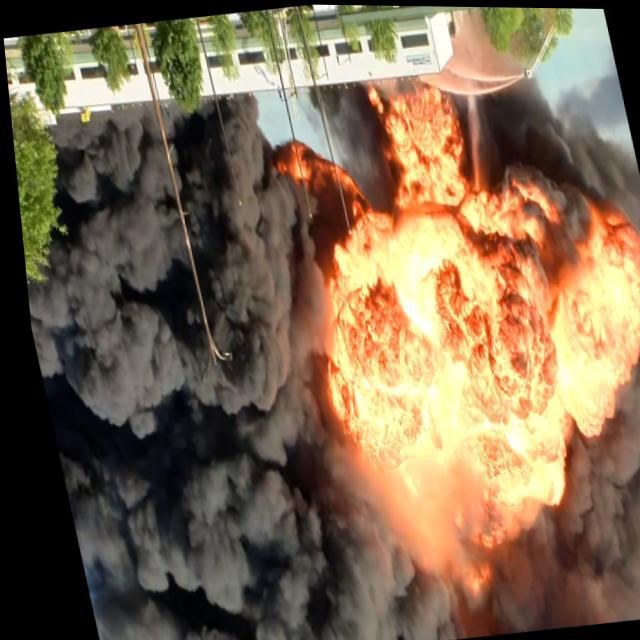Fire: (245, 45, 640, 591)
